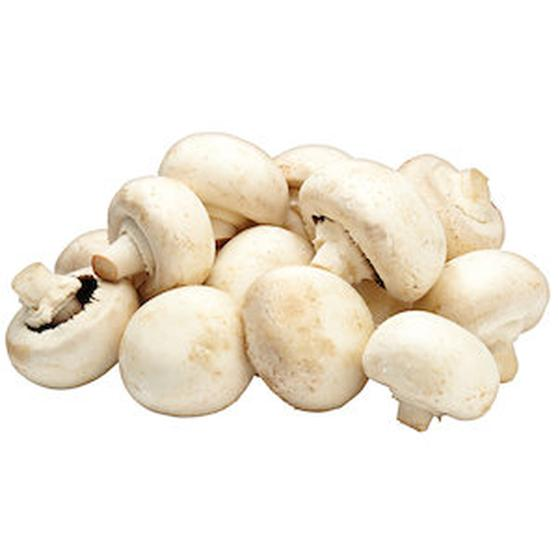champignon: (298, 149, 454, 305), (238, 251, 378, 420), (124, 279, 259, 423), (368, 302, 503, 442), (435, 242, 550, 382), (99, 170, 223, 296)
